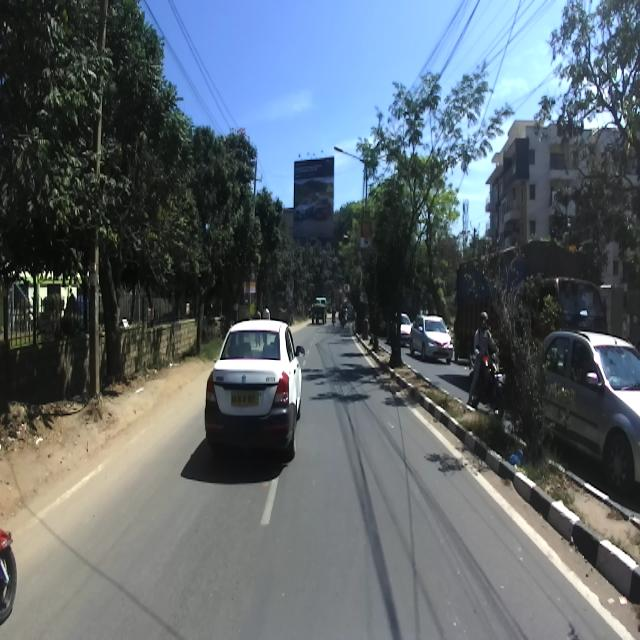car ahead at: (202, 317, 309, 454)
